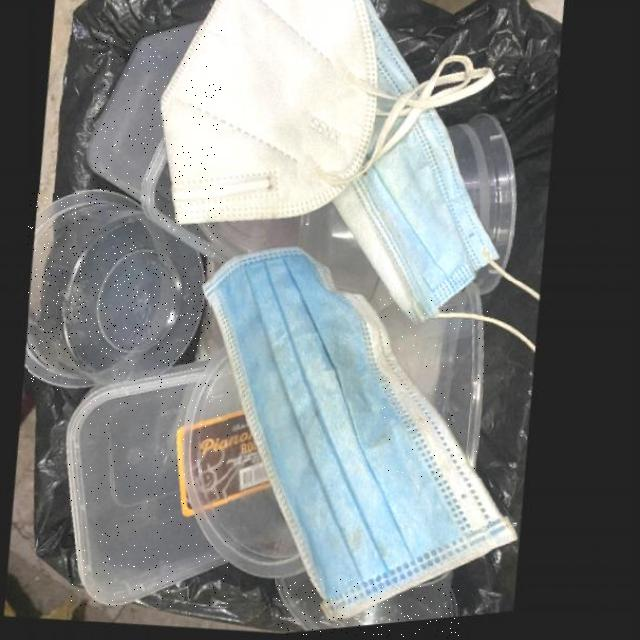plastic: (70, 366, 228, 608), (29, 193, 211, 389), (94, 25, 223, 263), (380, 293, 488, 477), (276, 579, 459, 638), (455, 124, 523, 281)
